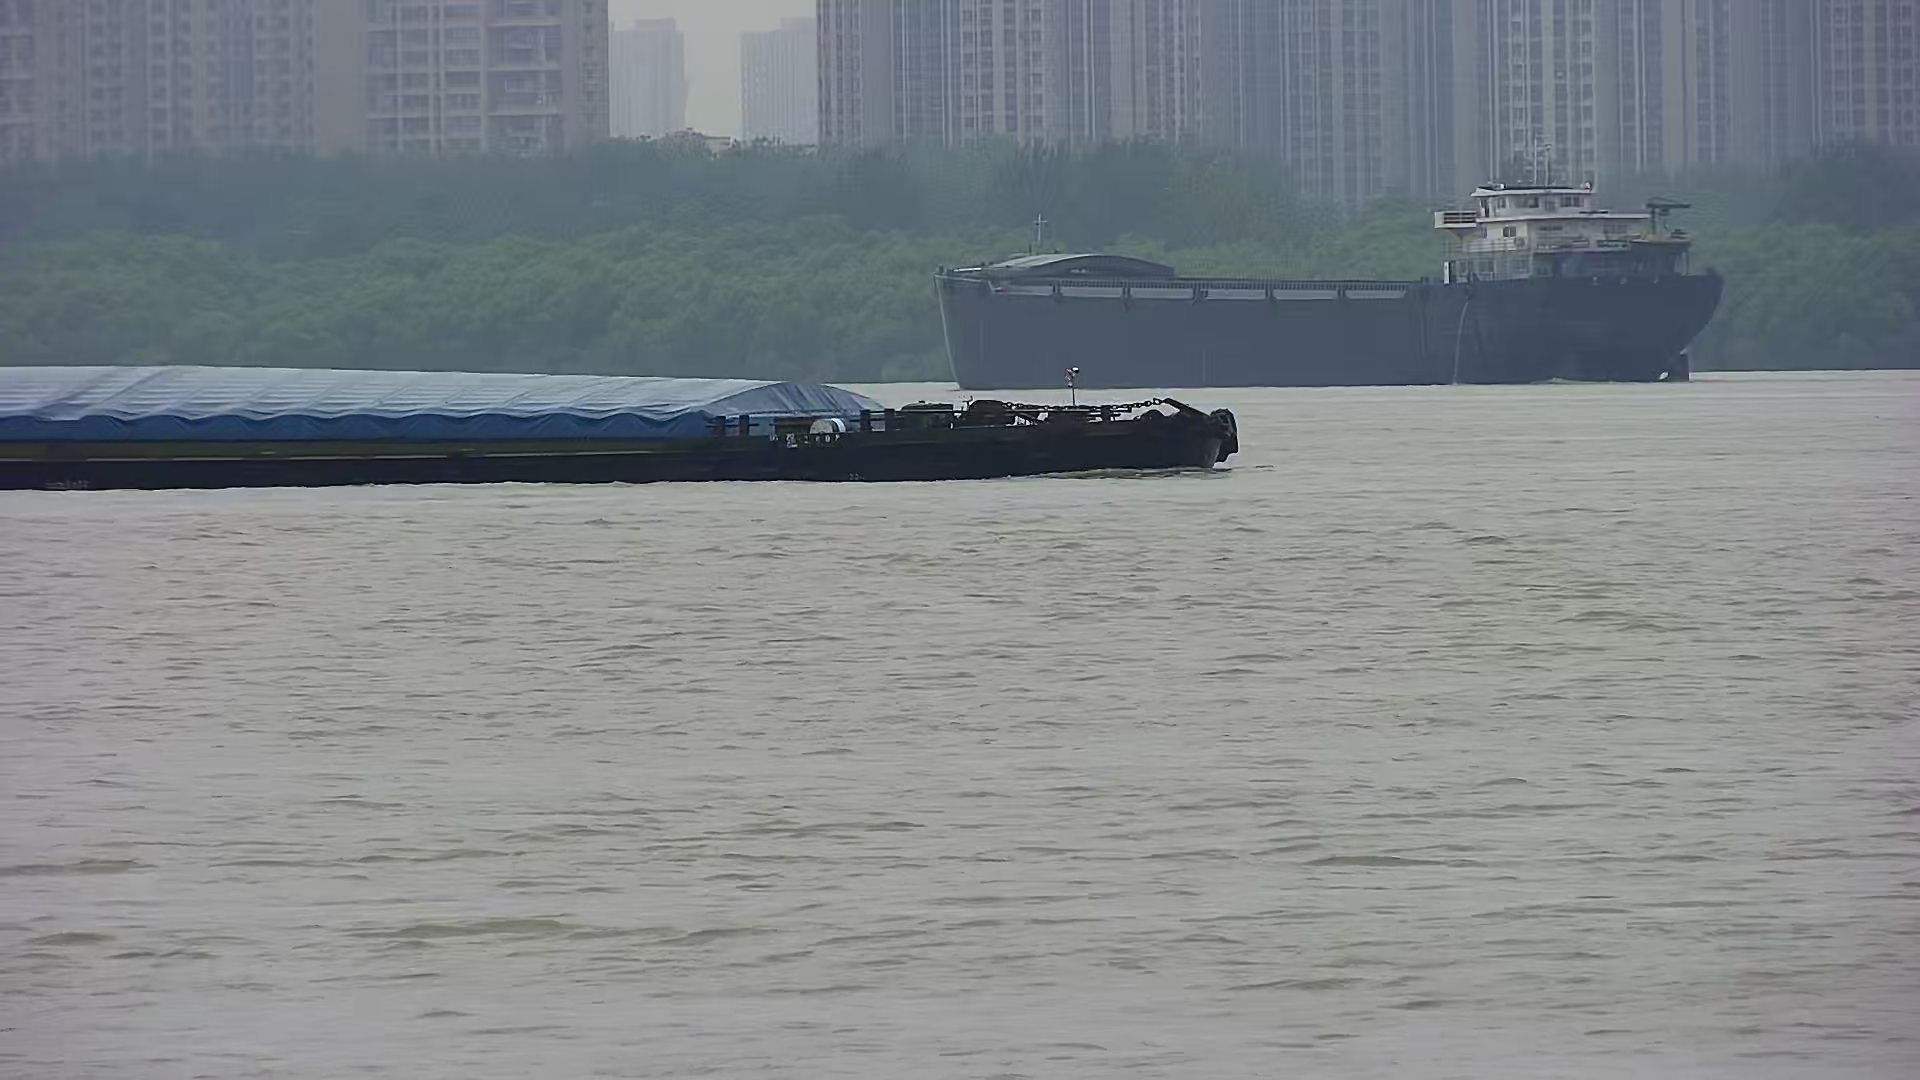ship: (931, 141, 1727, 392), (1, 361, 1232, 491)
